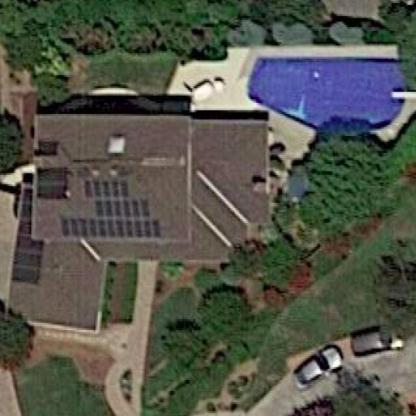car: (286, 332, 342, 389), (339, 327, 405, 362)
solar_panel: (59, 174, 170, 243), (10, 177, 52, 288)
swimming_pool: (238, 43, 410, 150)
